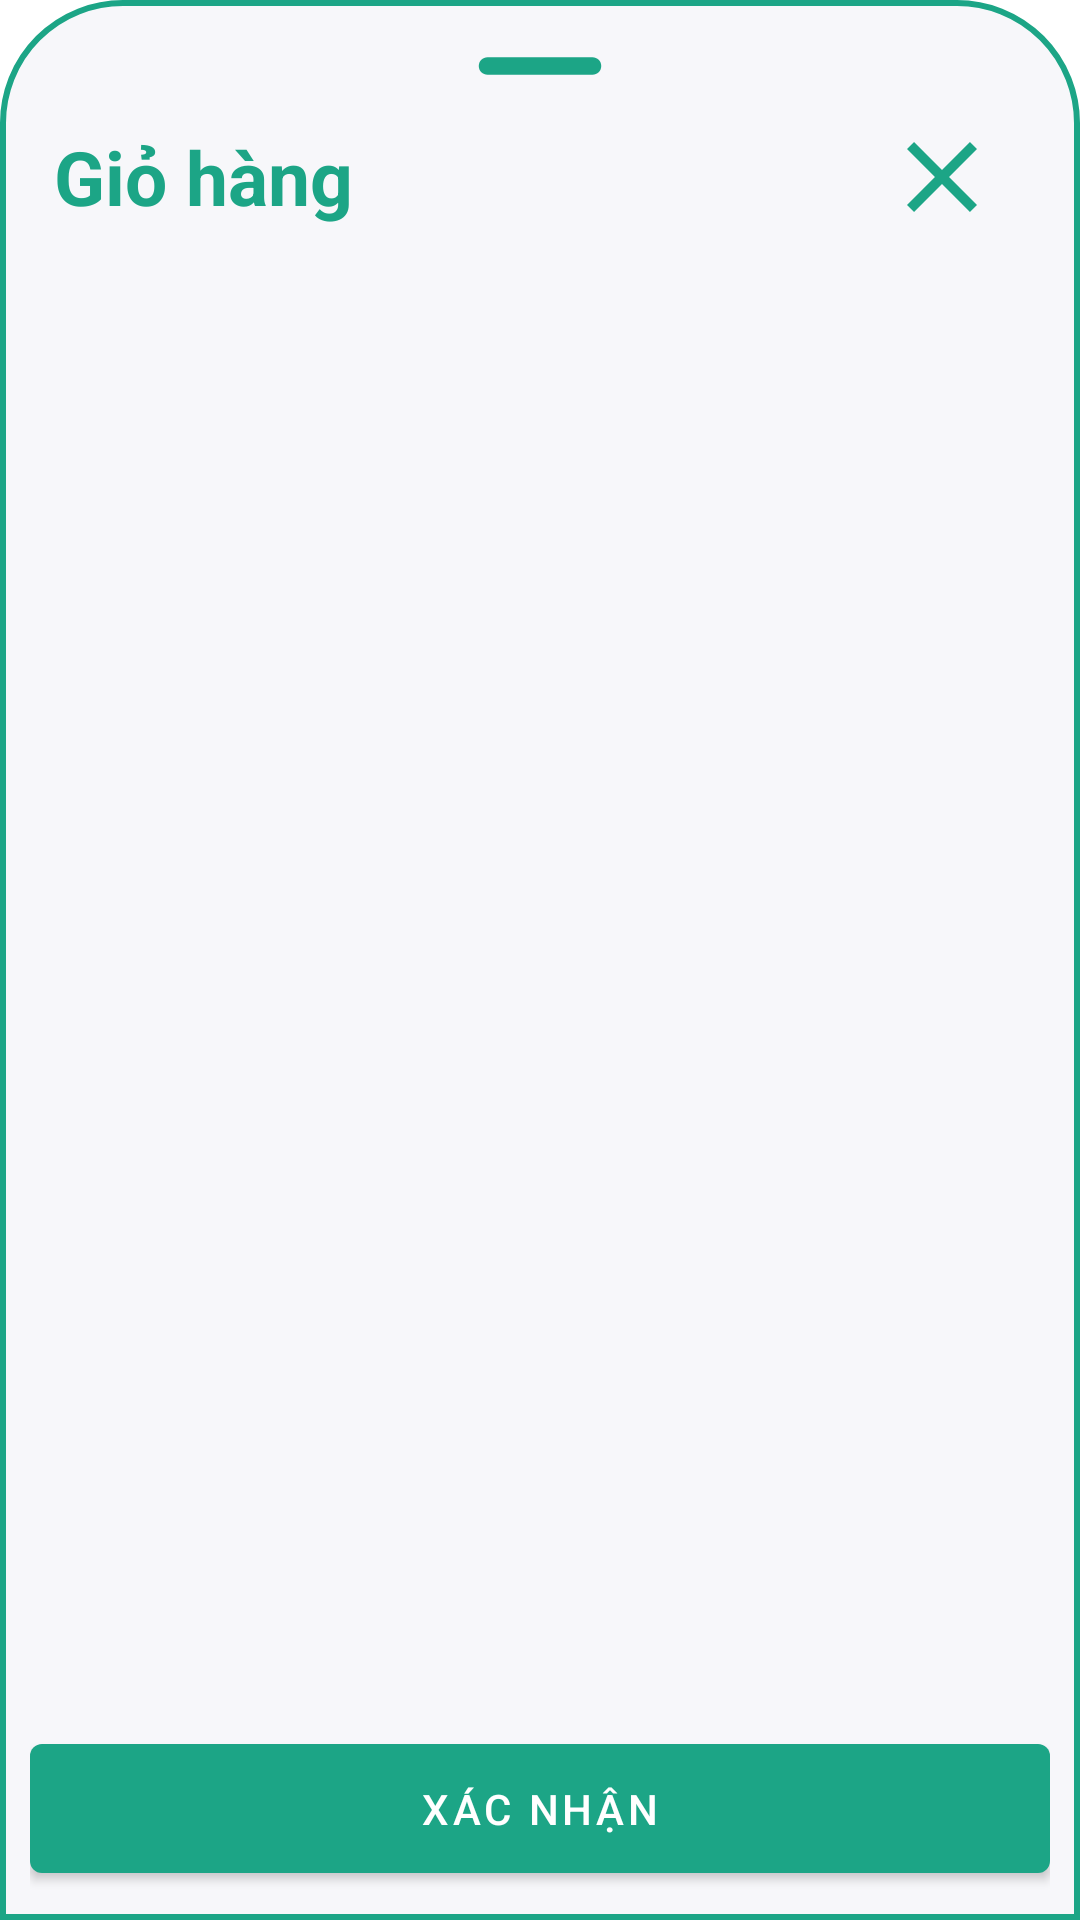

Named icons in this screenshot (1080x1920) and their centers, point (x, y):
clear: point (942, 177)
